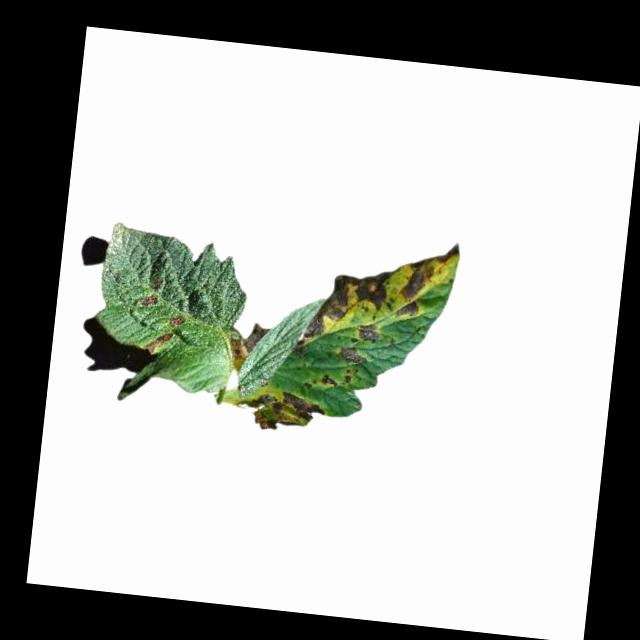Early_blight: (297, 225, 461, 363), (248, 385, 328, 435), (228, 316, 271, 362), (144, 328, 171, 353), (339, 343, 367, 367), (355, 323, 380, 345), (320, 368, 341, 390), (165, 311, 187, 329), (138, 290, 158, 306)
